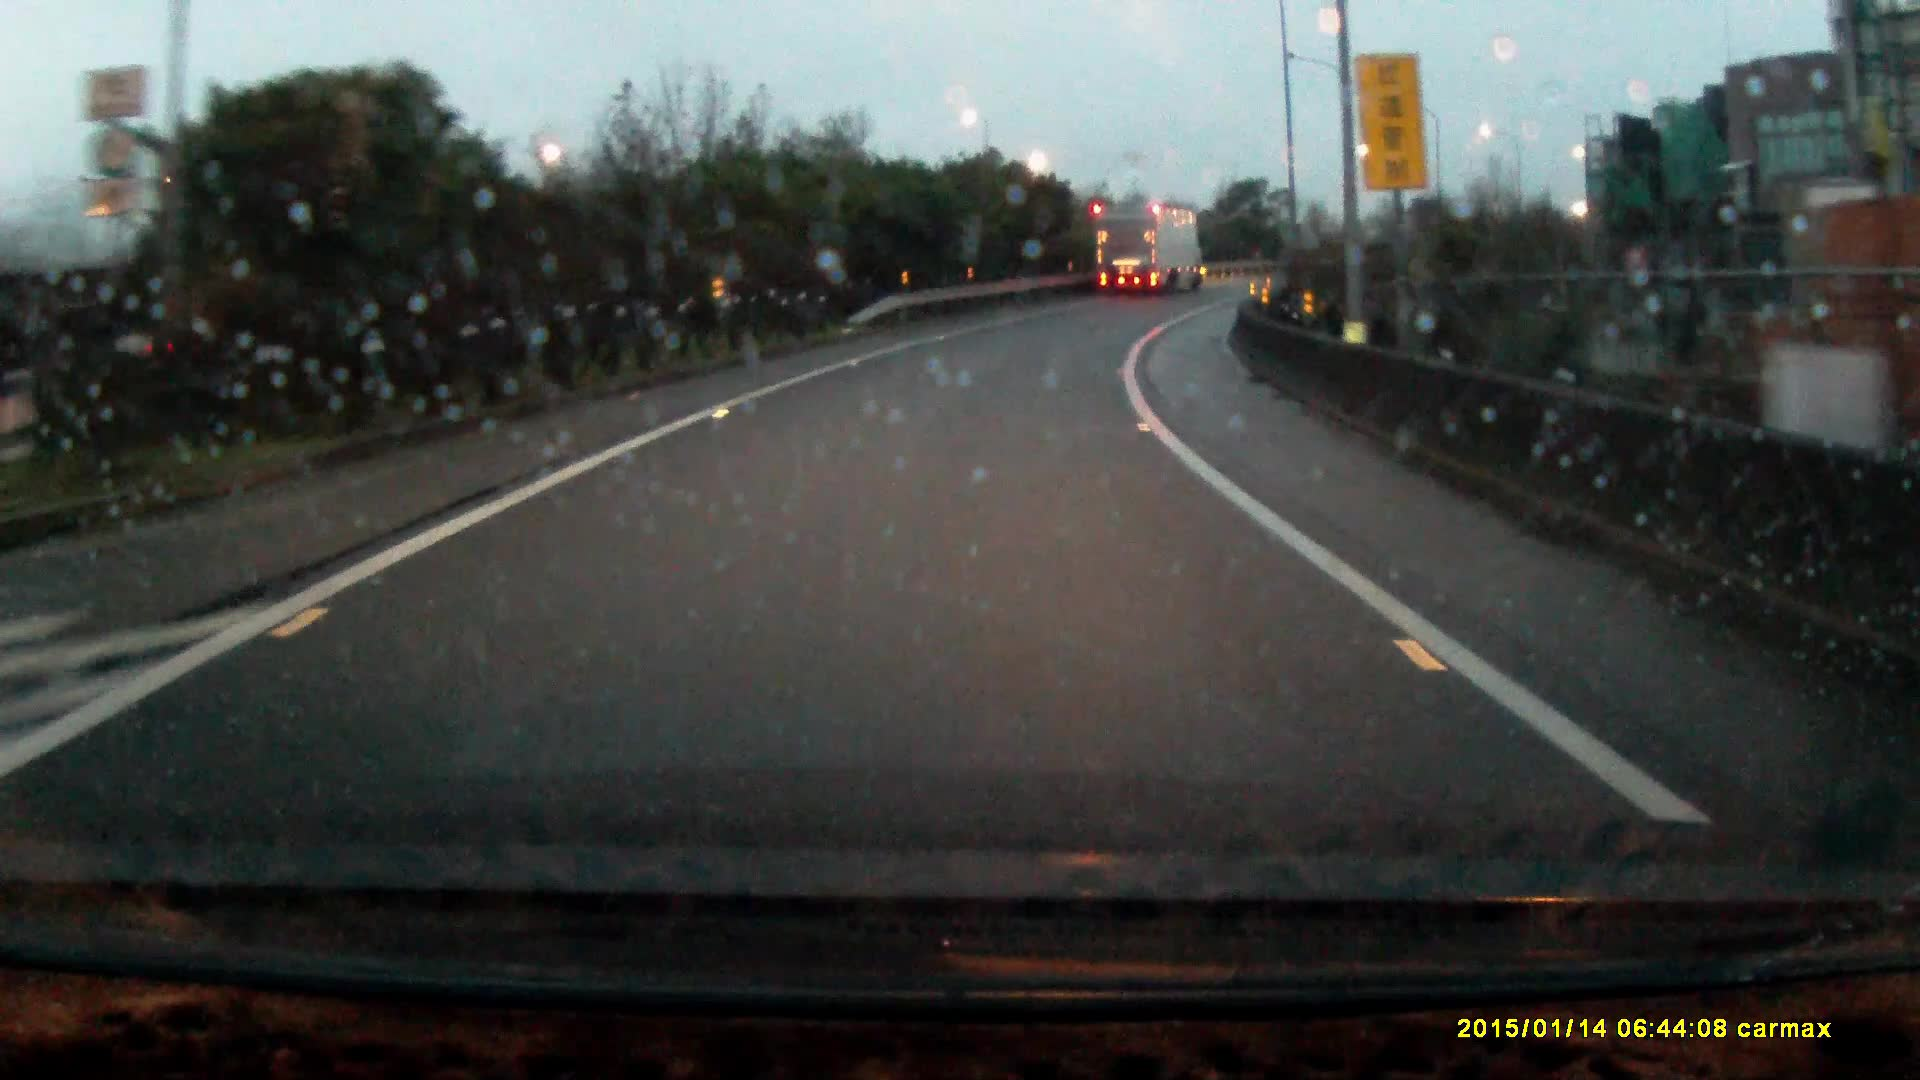vehicle: (1092, 200, 1205, 295)
